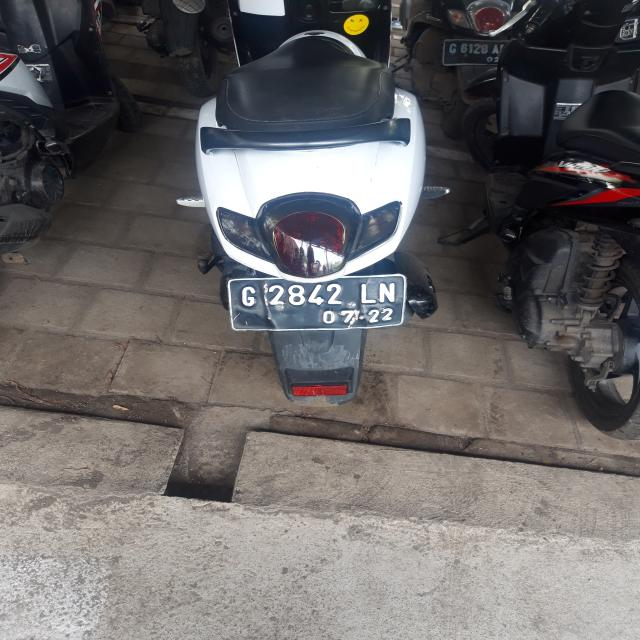plate: (229, 277, 408, 330)
